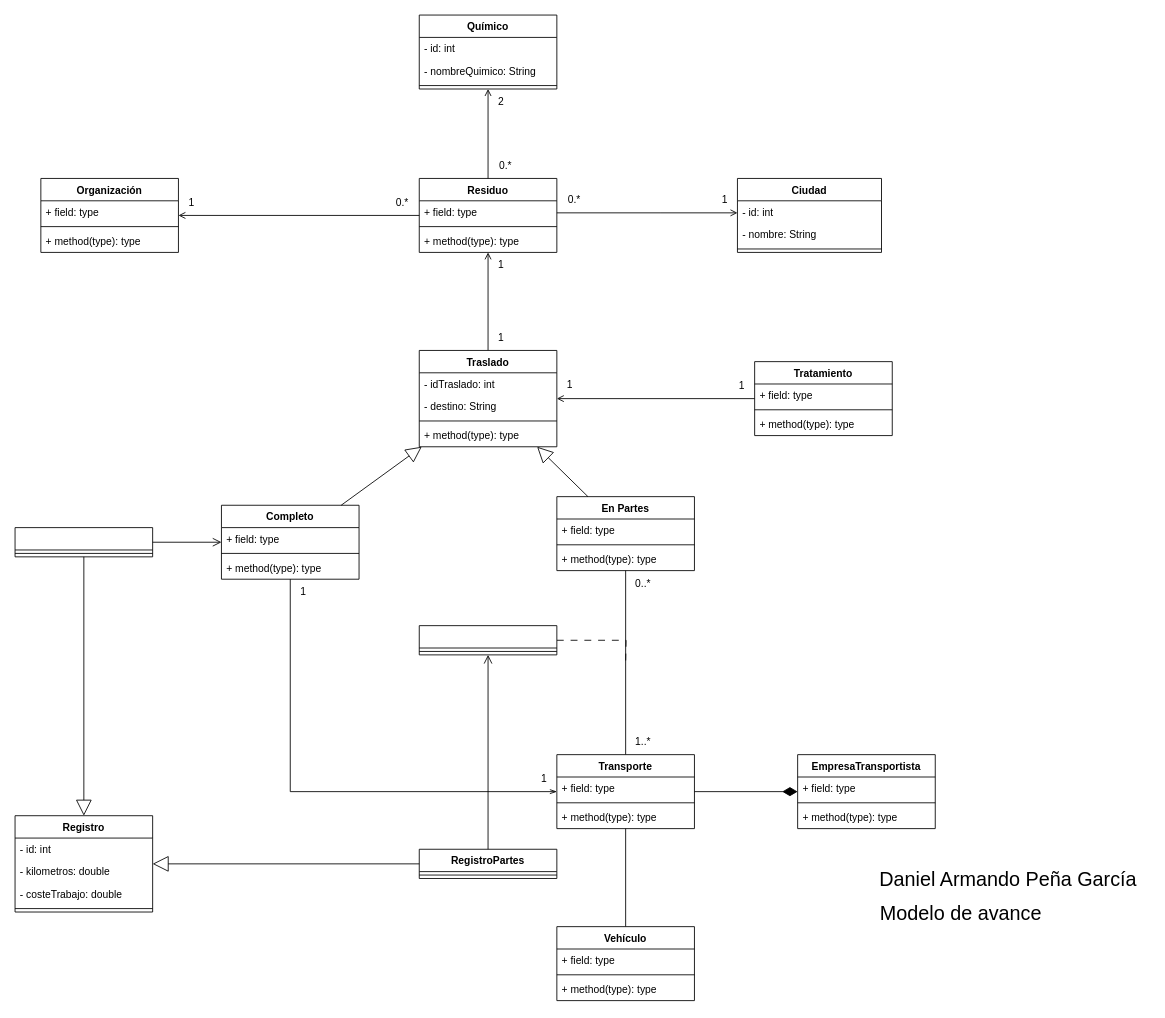
This 1165x1018 diagram has some shape labels left out. Here are the shapes that lost their labels. From the top down, the centre of each, then its label:
the point at 83,542: RegistroTotalidad
the point at 487,640: Historial
